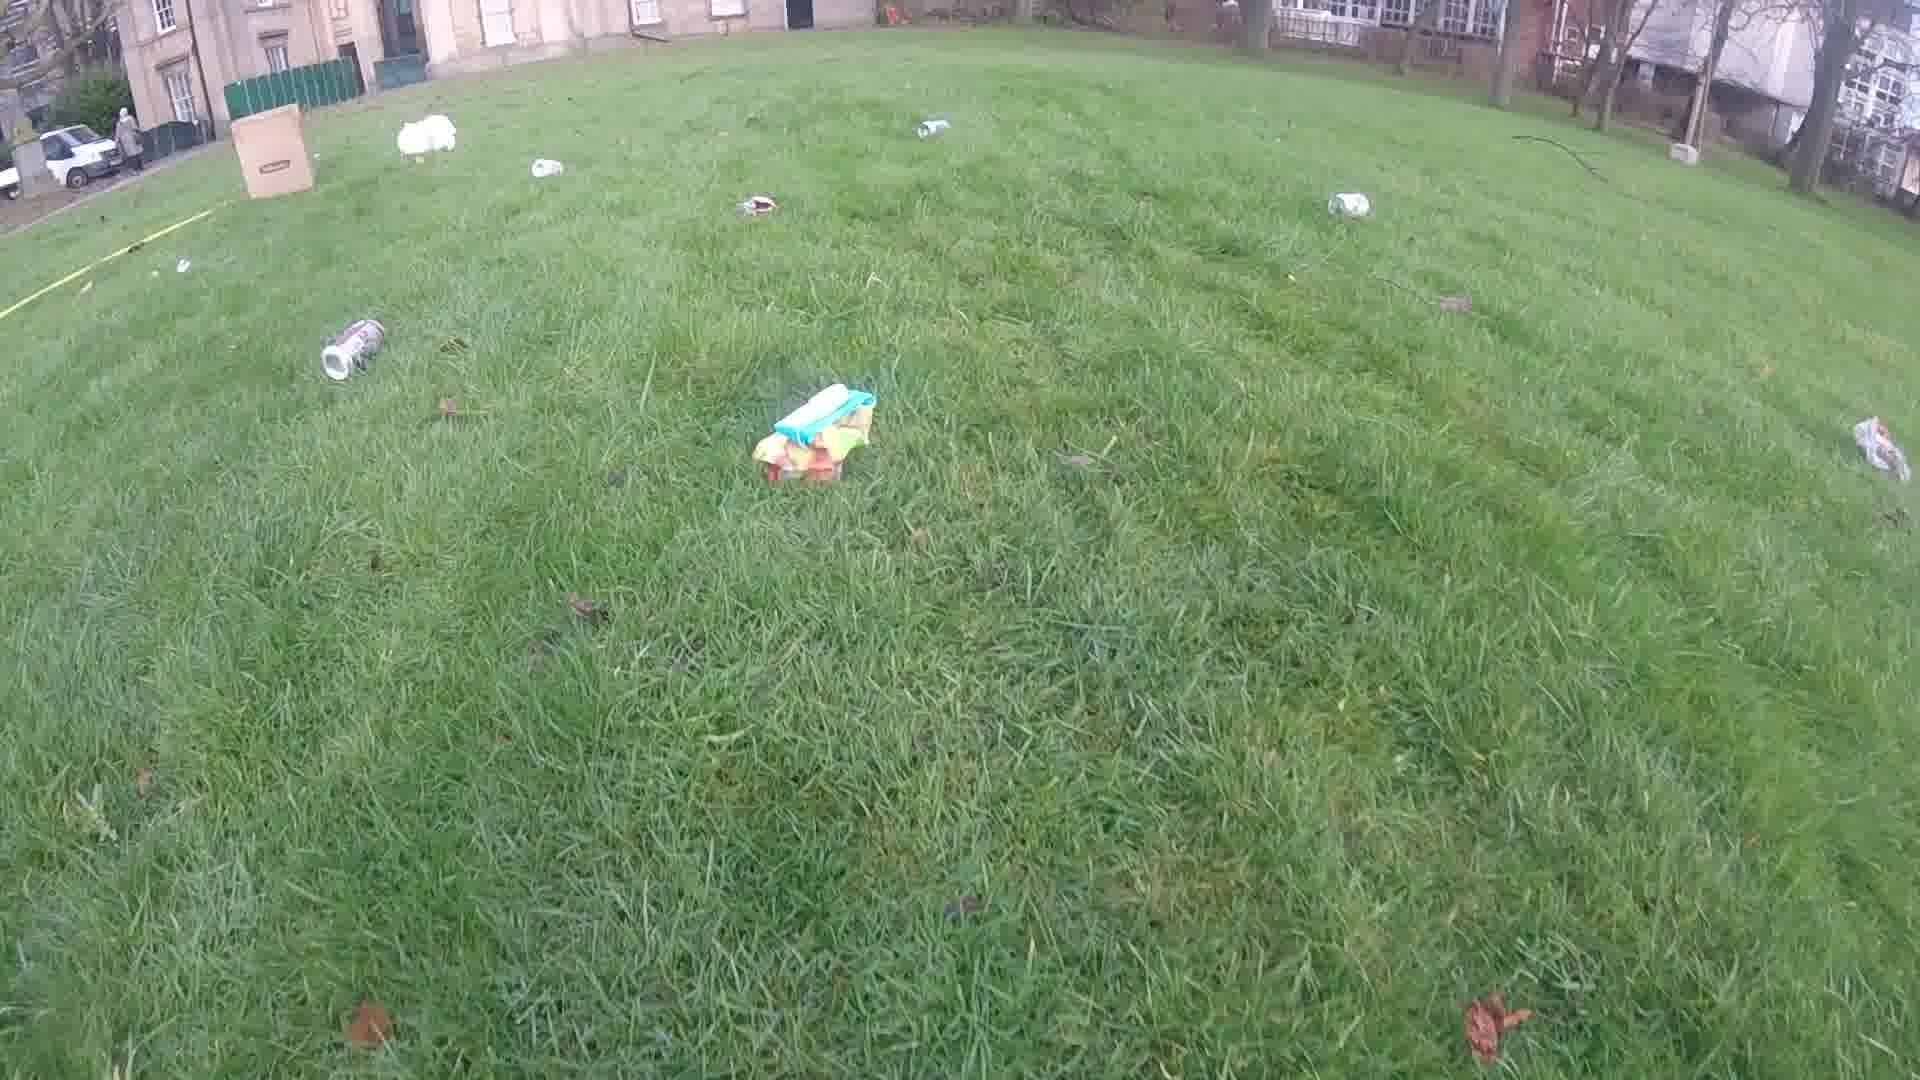litter: (752, 381, 877, 488), (229, 104, 315, 199), (1849, 414, 1908, 485), (320, 316, 385, 378), (397, 113, 458, 156), (1327, 191, 1370, 218), (736, 196, 778, 215), (914, 119, 948, 137), (529, 157, 560, 177), (175, 258, 190, 276)
